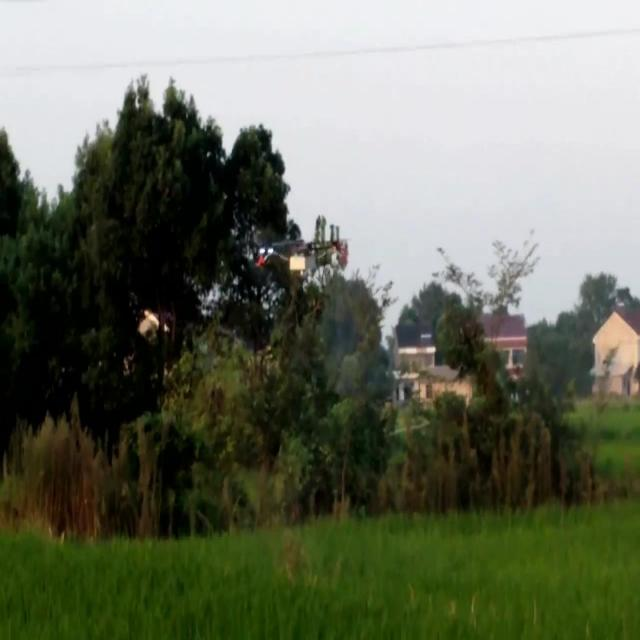UAV: (253, 241, 349, 309)
